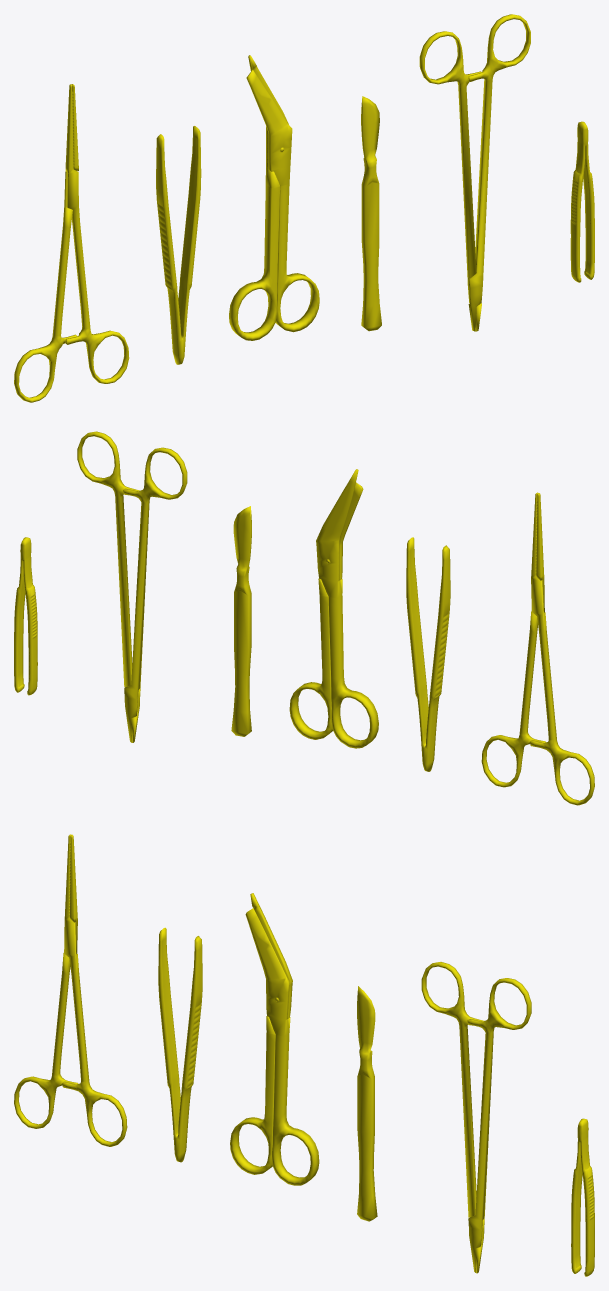
The model's file is TOOLS.fbx.
3 views of the same model, one above another, from view 1: azimuth 30°, elevation 25°; view 2: azimuth 150°, elevation 25°; view 3: azimuth 330°, elevation 25° (orthographic).
Parts seen in each view (by area): view 1: Plane.004, Forceps, Bandage scissors, cuticle scissors, Scalpel, Tweezers; view 2: Plane.004, Forceps, Bandage scissors, cuticle scissors, Scalpel, Tweezers; view 3: Plane.004, Forceps, Bandage scissors, cuticle scissors, Scalpel, Tweezers.
Boxes of the visible parts, box(x1,y1,x2,y2) form: Plane.004: box(229, 55, 319, 340); Forceps: box(419, 14, 530, 331); Bandage scissors: box(14, 84, 129, 402); cuticle scissors: box(156, 126, 201, 364); Scalpel: box(361, 96, 381, 331); Tweezers: box(570, 121, 594, 282); Plane.004: box(289, 469, 378, 748); Forceps: box(77, 431, 187, 742); Bandage scissors: box(481, 492, 594, 805); cuticle scissors: box(406, 537, 450, 771); Scalpel: box(231, 506, 251, 736); Tweezers: box(14, 537, 37, 695); Plane.004: box(230, 893, 319, 1185); Forceps: box(421, 962, 531, 1273); Bandage scissors: box(14, 834, 127, 1146); cuticle scissors: box(158, 927, 202, 1162); Scalpel: box(357, 986, 377, 1221); Tweezers: box(571, 1118, 594, 1276).
Bounding box in the file's own units: 986 × 566 × 30.61.
